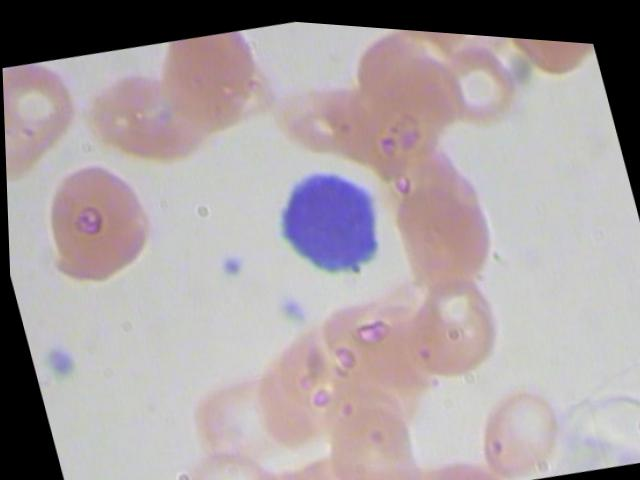Platelets: (211, 244, 250, 282), (273, 284, 312, 322), (38, 341, 74, 382)
Red Blood Cells: (13, 141, 173, 305), (305, 268, 434, 403), (256, 307, 385, 442), (171, 341, 303, 472), (68, 55, 206, 179), (390, 257, 521, 387), (148, 17, 285, 139), (380, 161, 506, 288), (454, 359, 570, 479), (334, 66, 451, 183), (255, 55, 372, 171), (430, 25, 534, 135), (311, 383, 427, 479), (2, 53, 91, 167), (2, 81, 79, 195), (492, 29, 600, 84), (382, 22, 498, 53)
White Blood Cells: (262, 150, 394, 290)
